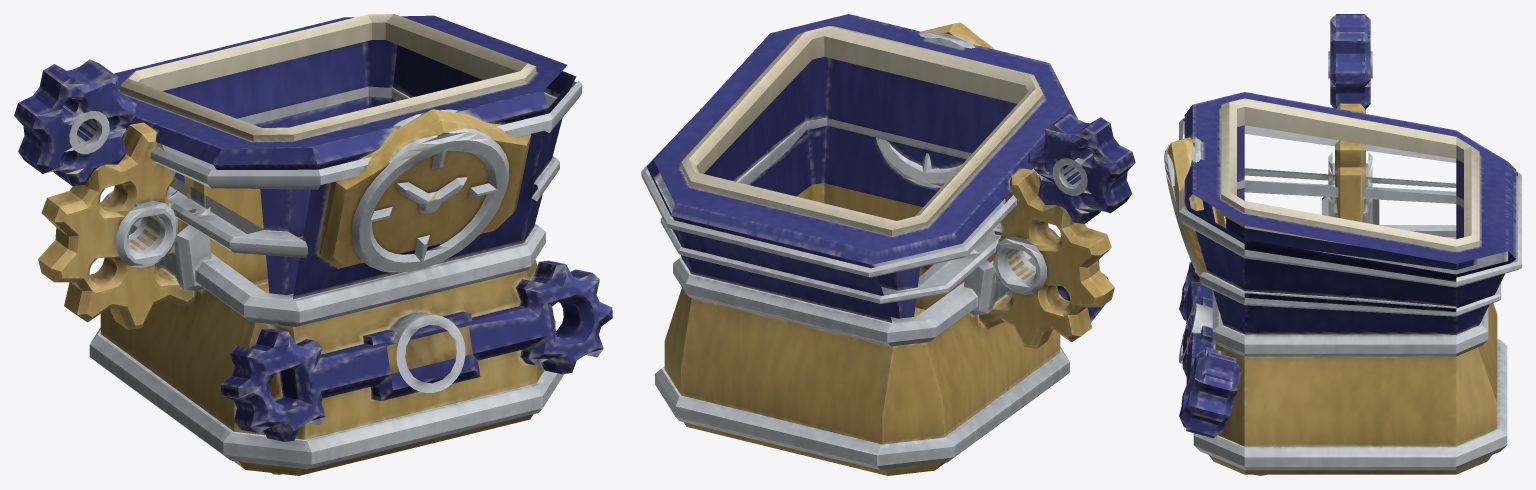
File: Clockwork Knuckles_L.fbx
3 views of the same model, side by side, from view 1: azimuth 30°, elevation 25°; view 2: azimuth 150°, elevation 25°; view 3: azimuth 270°, elevation 25° (orthographic). The views are drawn at different scales.
Parts seen in each view (by area): view 1: Clockwork Knuckles_L; view 2: Clockwork Knuckles_L; view 3: Clockwork Knuckles_L.
Part boxes in pixels (x1=…): Clockwork Knuckles_L: x1=14, y1=14, x2=612, y2=475; Clockwork Knuckles_L: x1=641, y1=14, x2=1135, y2=475; Clockwork Knuckles_L: x1=1164, y1=14, x2=1521, y2=475.
Size of the model in its own units: 2.02 by 1.58 by 1.61.
